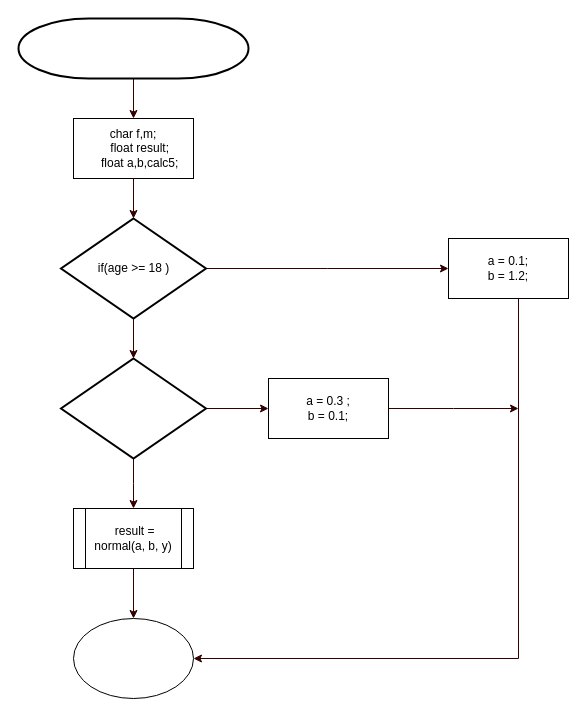
Image size: 586x716. Some labels were removed from this diagram. The shapes that lost their labels are listed below. From the top down, each one's centre as x and y in pixels, then its label:
At (x=133, y=48): "calc5 = bilirubin(temp_age,user1.bili,c_age);".
At (x=133, y=408): "else if (age < 18 )".
At (x=133, y=658): "return calc5;".
